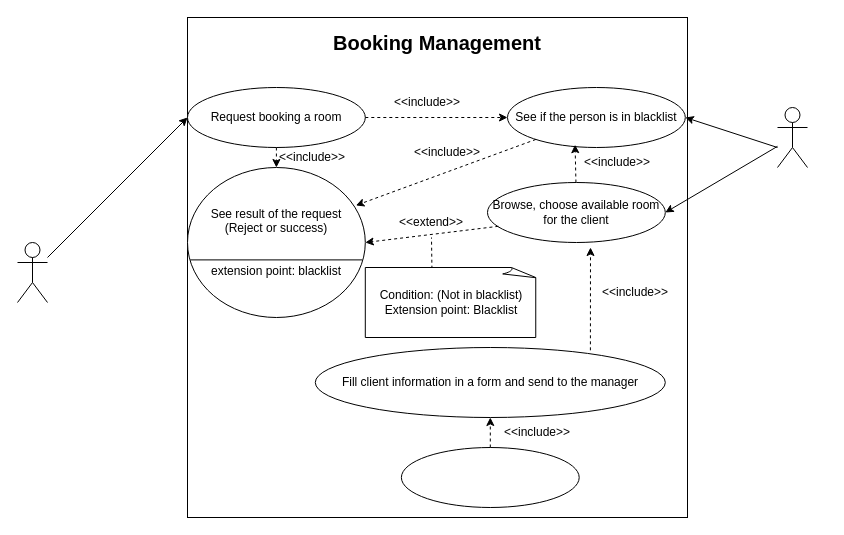
This 844x535 diagram has some shape labels left out. Each missing label, with the box of its shape:
Book a room: (400, 446, 579, 508)
Client: (16, 242, 48, 302)
Receiptionist: (776, 106, 808, 168)
